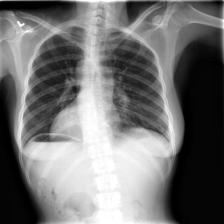normal: (19, 22, 176, 160)
